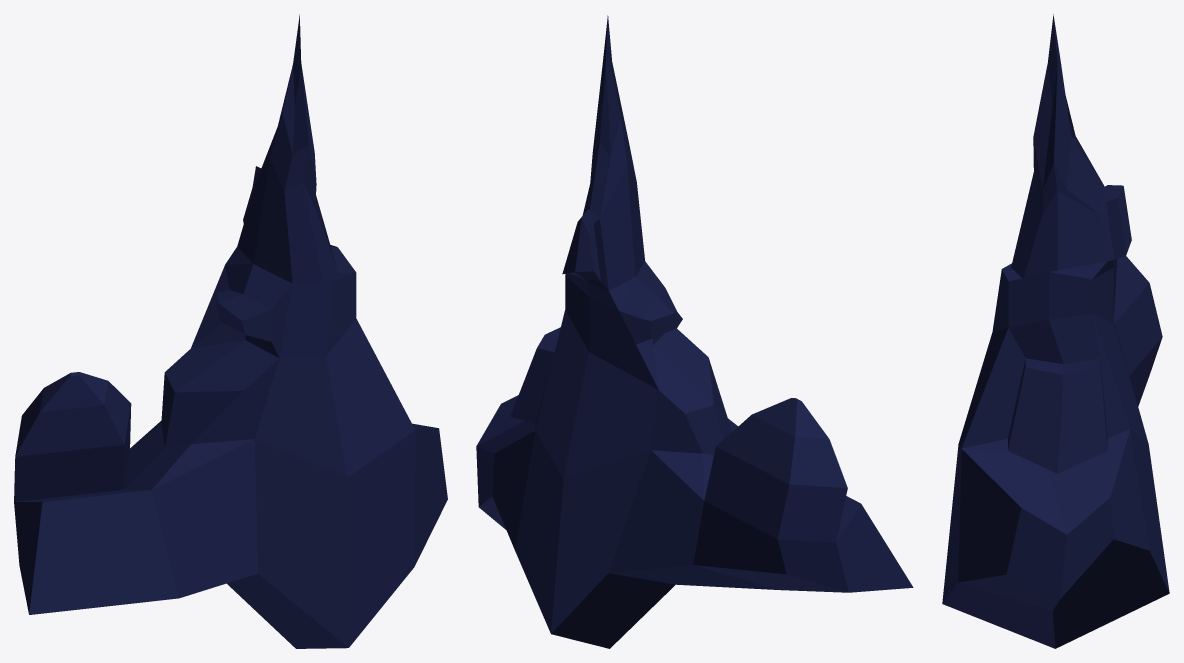
Rendered from cave_spike_tall.fbx.
The picture shows the model from 3 angles, left to right: view 1: azimuth 30°, elevation 25°; view 2: azimuth 150°, elevation 25°; view 3: azimuth 270°, elevation 25°; orthographic projection.
Visible parts, largest first — view 1: cave_spike_tall; view 2: cave_spike_tall; view 3: cave_spike_tall.
Boxes of the visible parts, x1,y1,x2,y2 form: cave_spike_tall: (14, 14, 447, 648); cave_spike_tall: (476, 15, 913, 648); cave_spike_tall: (942, 14, 1169, 648).
Size of the model in its own units: 1.42 by 0.6736 by 2.08.
